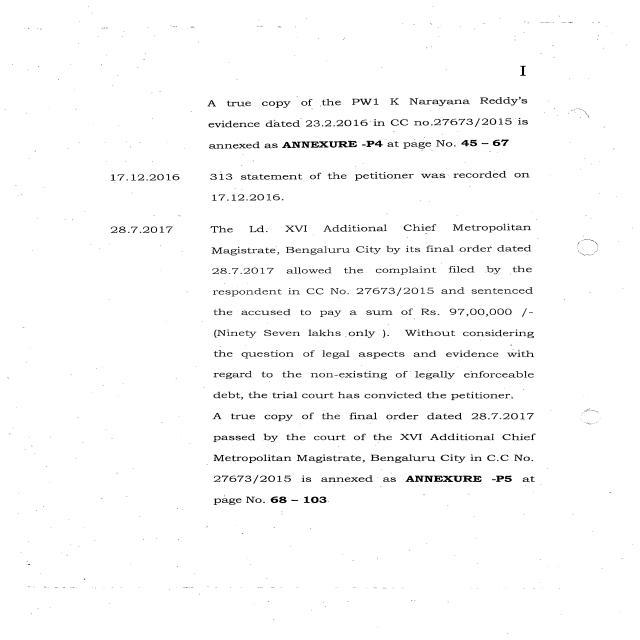page-number: (378, 24, 640, 94)
